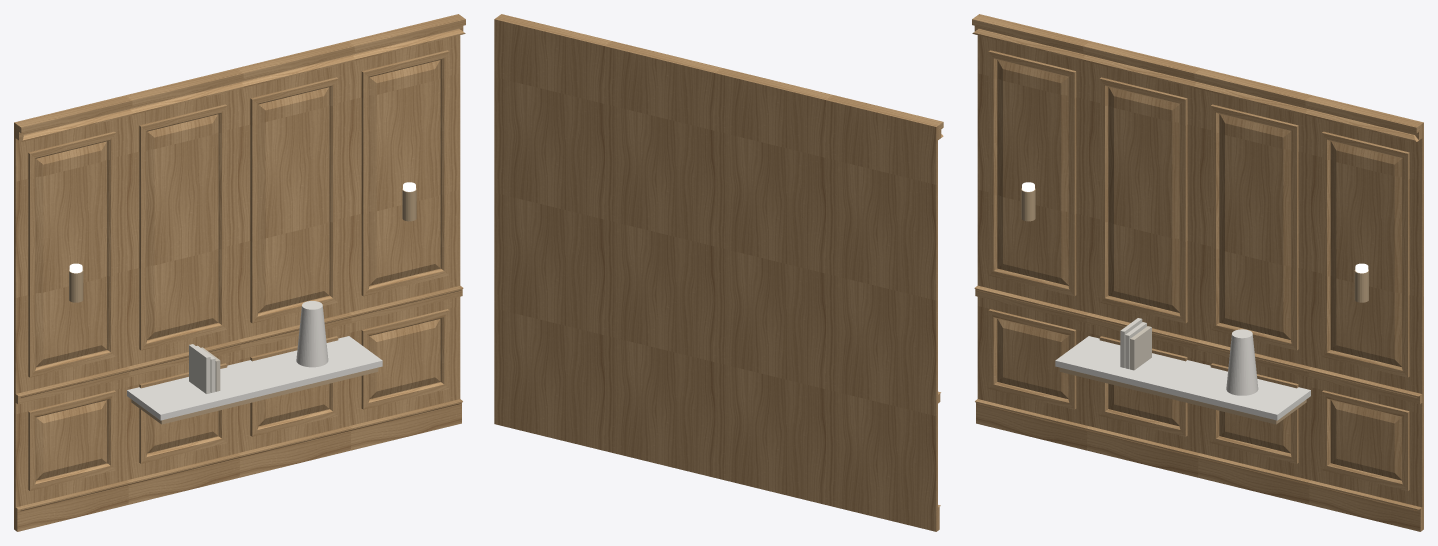
File: boiserie.glb
The picture shows the model from 3 angles, left to right: view 1: azimuth 30°, elevation 25°; view 2: azimuth 150°, elevation 25°; view 3: azimuth 330°, elevation 25°; orthographic projection.
Parts seen in each view (by area): view 1: finitura, schienale, pietra, bronzo, ceramica, libro4; view 2: schienale, finitura; view 3: finitura, schienale, pietra, bronzo, ceramica, libro2, libro4.
Boxes of the visible parts, <box> form: finitura: <box>15,15,465,531</box>; schienale: <box>14,14,460,530</box>; pietra: <box>127,336,382,420</box>; bronzo: <box>69,188,416,424</box>; ceramica: <box>296,301,328,367</box>; libro4: <box>189,344,215,393</box>; schienale: <box>494,18,937,531</box>; finitura: <box>496,14,943,530</box>; finitura: <box>972,15,1422,531</box>; schienale: <box>977,14,1423,530</box>; pietra: <box>1055,336,1310,420</box>; bronzo: <box>1021,188,1368,424</box>; ceramica: <box>1226,329,1258,395</box>; libro2: <box>1130,326,1151,370</box>; libro4: <box>1120,318,1146,369</box>.
Size of the model in its own units: 3.2 by 2.8 by 0.44.
Materials: 8 (2 with a texture image).
